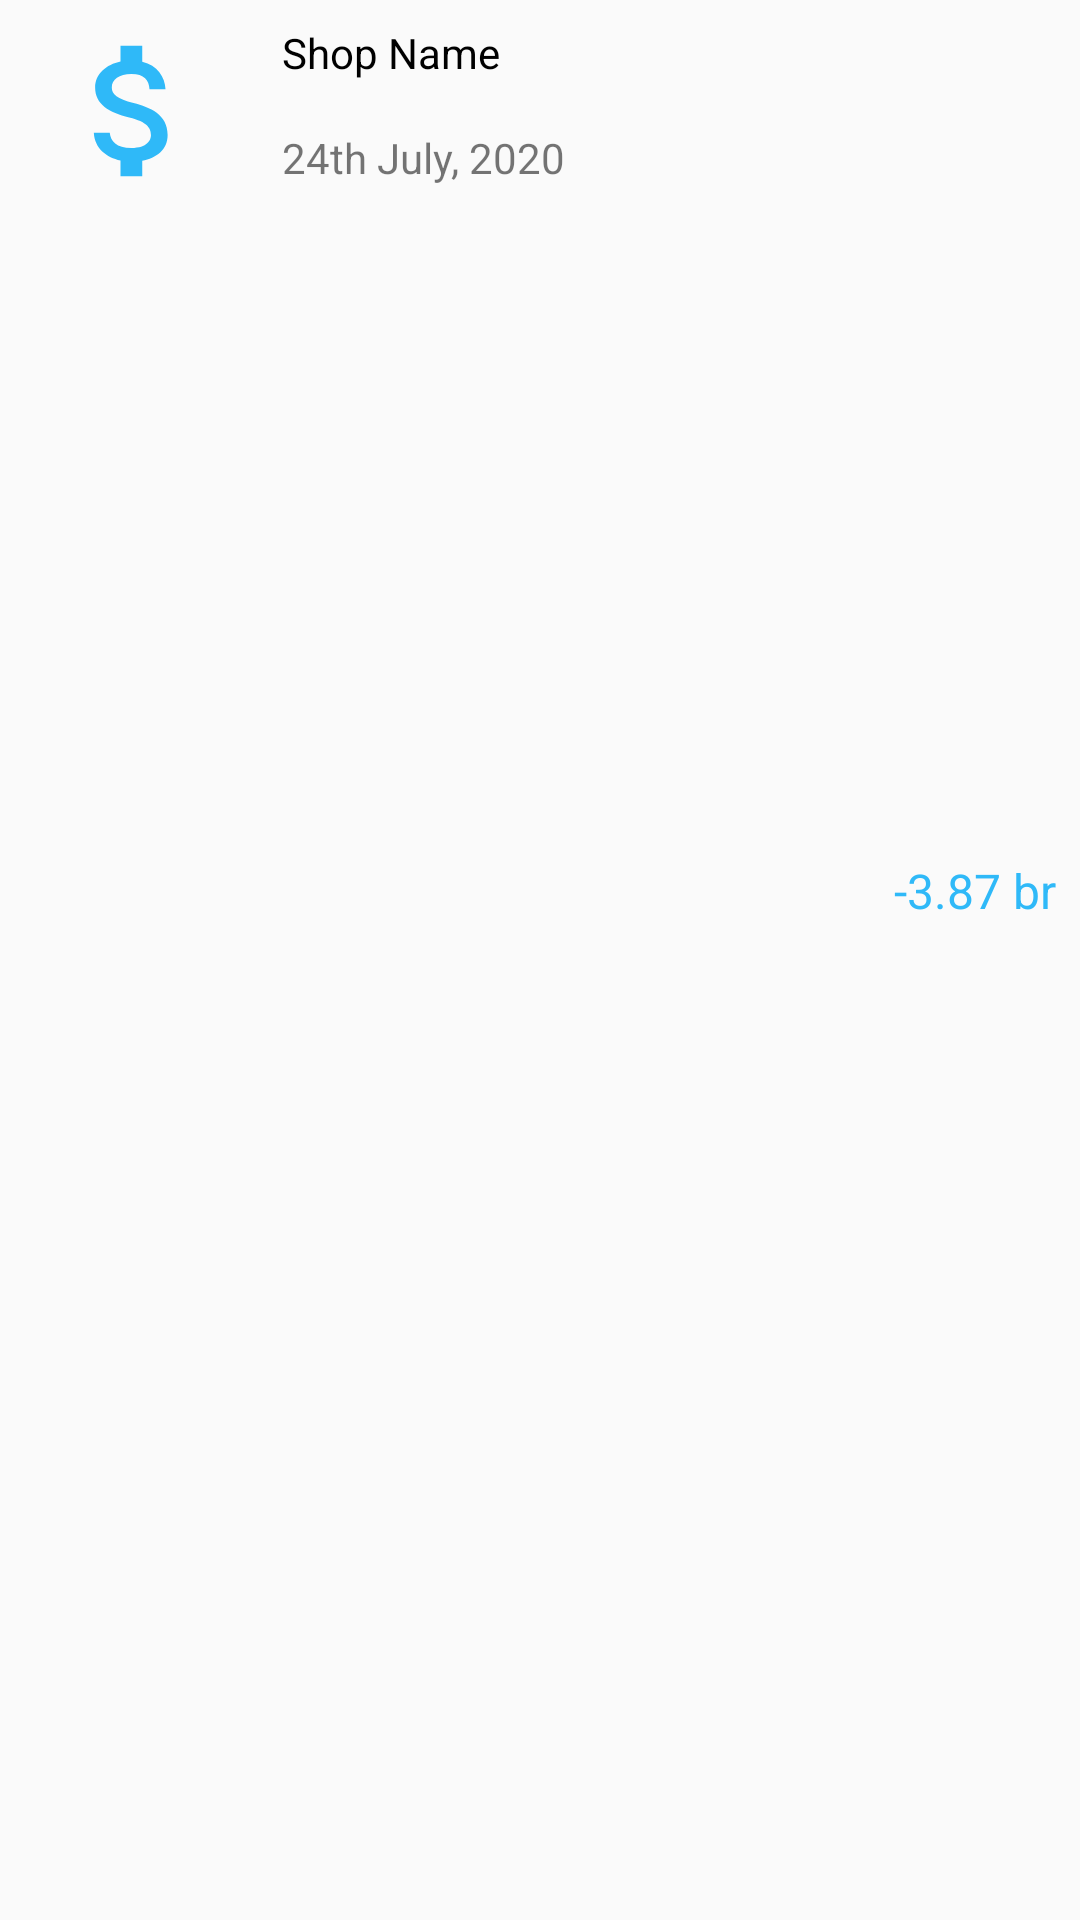

Icons on this 1080w x 1920h Android screen, each with its box as {"x1": x1, "y1": y1, "x2": x2, "y2": y2}:
attach money: {"x1": 94, "y1": 45, "x2": 168, "y2": 177}
